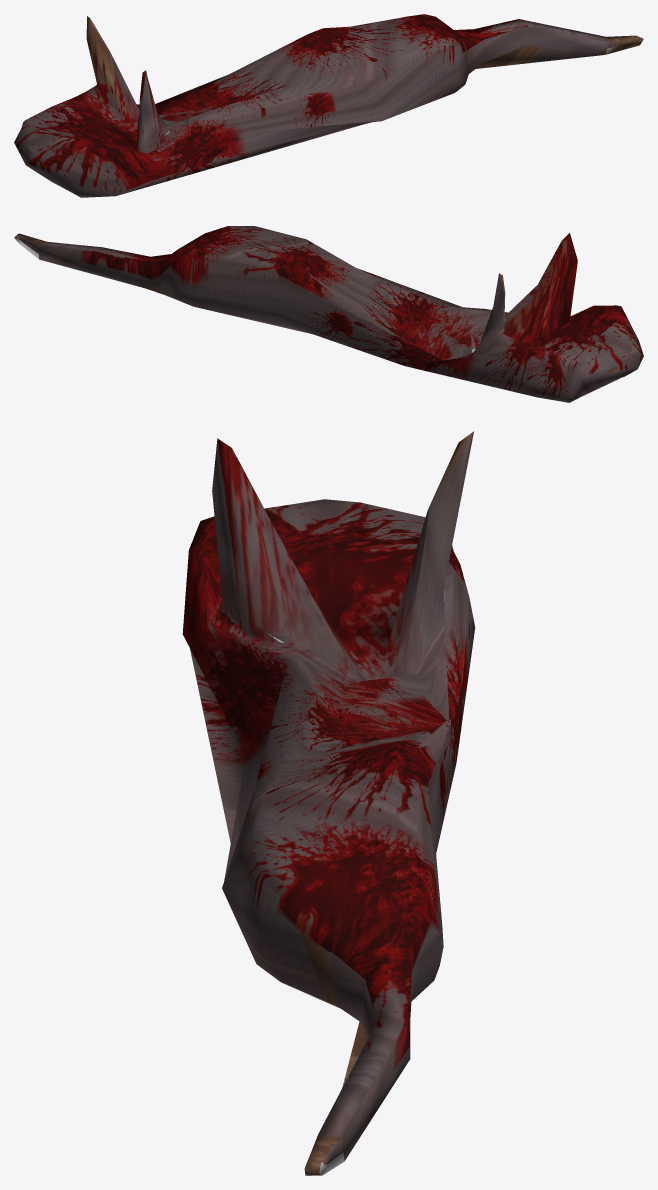
The model's file is RAt ded (im so good at 3d modeling).glb.
3 views of the same model, one above another, from view 1: azimuth 30°, elevation 25°; view 2: azimuth 150°, elevation 25°; view 3: azimuth 270°, elevation 25° (orthographic). The views are drawn at different scales.
Visible parts, largest first — view 1: Cube; view 2: Cube; view 3: Cube.
Boxes of the visible parts, x1,y1,x2,y2 form: Cube: (14, 14, 643, 197); Cube: (14, 226, 643, 402); Cube: (182, 431, 475, 1175).
Size of the model in its own units: 8.16 by 1.63 by 1.68.
1 material, 1 textured.
